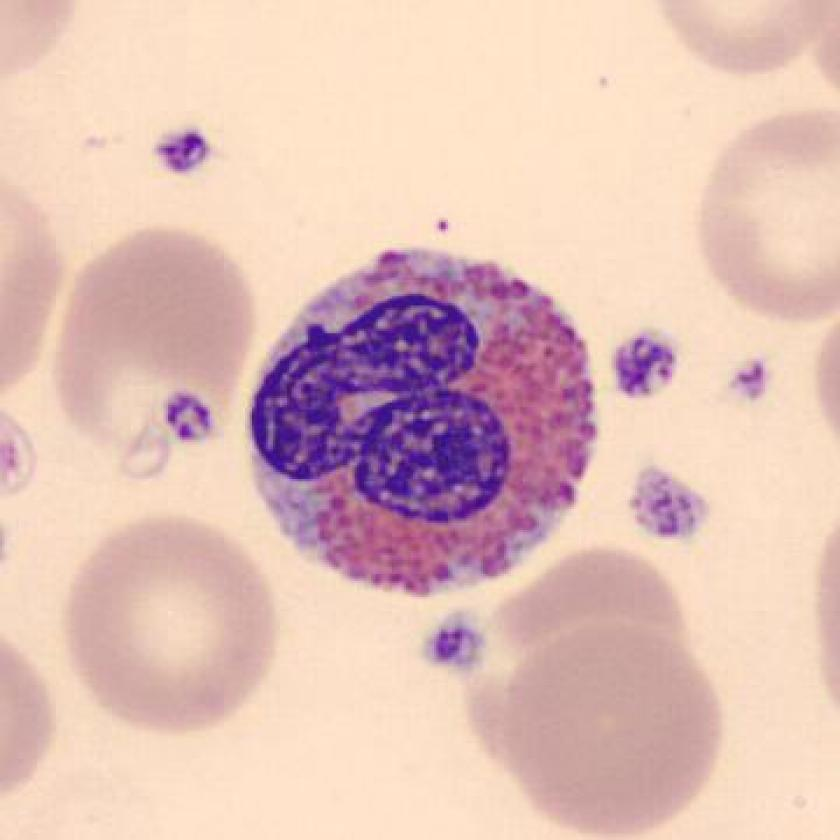eosinophil: (230, 232, 608, 605)
